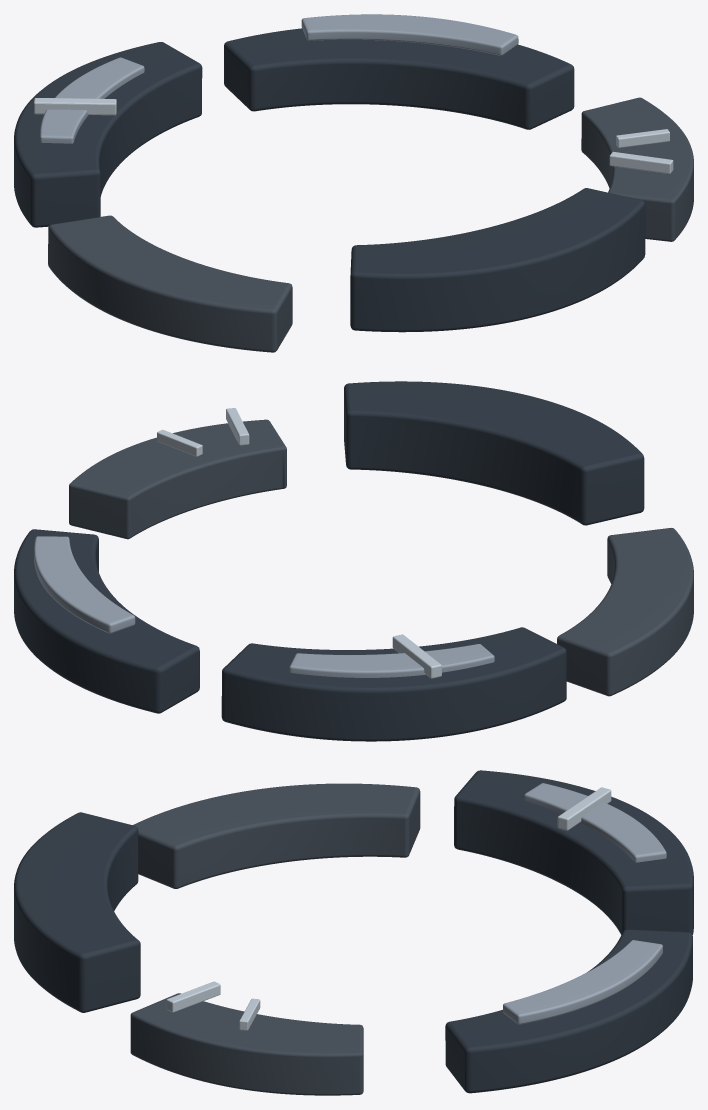
Rendered from ev_core_r11_frame.glb.
3 renders of one model, top to bottom at view 1: azimuth 30°, elevation 25°; view 2: azimuth 150°, elevation 25°; view 3: azimuth 270°, elevation 25°, orthographic.
Visible parts, largest first — view 1: FrameSector_3, FrameSector_0, FrameSector_2, FrameSector_1, FrameSector_4, FrameInset_0, FrameInset_1, EV_Cut_Inward, EV_Cut_Bifurcated_A, EV_Cut_Bifurcated_B; view 2: FrameSector_3, FrameSector_1, FrameSector_4, FrameSector_0, FrameSector_2, FrameInset_0, FrameInset_1, EV_Cut_Inward, EV_Cut_Bifurcated_B; view 3: FrameSector_2, FrameSector_3, FrameSector_1, FrameSector_0, FrameSector_4, FrameInset_0, FrameInset_1, EV_Cut_Inward, EV_Cut_Bifurcated_A.
Part boxes in pixels (box(x1,y1,x2,y2)): FrameSector_3: box(350, 188, 645, 332); FrameSector_0: box(224, 28, 574, 129); FrameSector_2: box(48, 215, 292, 352); FrameSector_1: box(14, 42, 202, 227); FrameSector_4: box(581, 97, 693, 241); FrameInset_0: box(301, 14, 518, 55); FrameInset_1: box(40, 57, 144, 143); EV_Cut_Inward: box(34, 98, 116, 115); EV_Cut_Bifurcated_A: box(609, 151, 673, 173); EV_Cut_Bifurcated_B: box(616, 129, 669, 147); FrameSector_3: box(344, 381, 644, 525); FrameSector_1: box(221, 627, 566, 741); FrameSector_4: box(69, 419, 286, 539); FrameSector_0: box(14, 529, 199, 713); FrameSector_2: box(557, 528, 693, 696); FrameInset_0: box(34, 536, 135, 633); FrameInset_1: box(289, 644, 494, 677); EV_Cut_Inward: box(392, 634, 441, 678); EV_Cut_Bifurcated_B: box(157, 429, 202, 456); FrameSector_2: box(133, 783, 420, 888); FrameSector_3: box(14, 812, 140, 1012); FrameSector_1: box(454, 770, 693, 934); FrameSector_0: box(445, 929, 692, 1093); FrameSector_4: box(130, 993, 363, 1095); FrameInset_0: box(503, 940, 662, 1024); FrameInset_1: box(524, 783, 666, 862); EV_Cut_Inward: box(557, 787, 611, 830); EV_Cut_Bifurcated_A: box(166, 981, 220, 1012).
Size of the model in its own units: 9.5 by 1.34 by 9.65.
